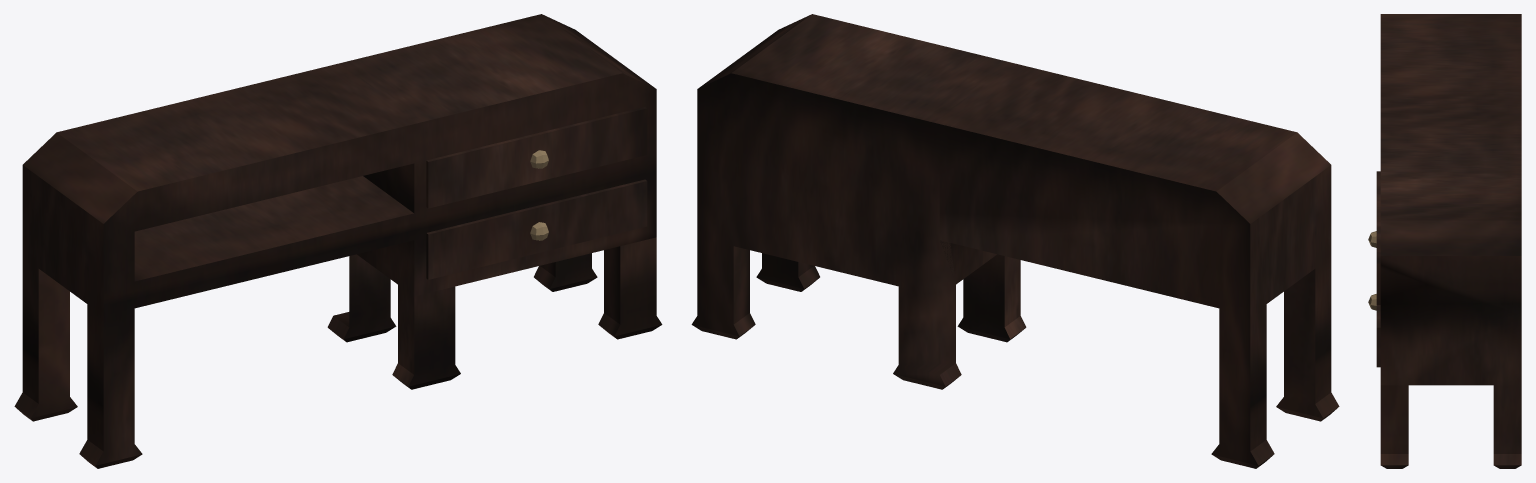
File: Dark_Desk.fbx
The picture shows the model from 3 angles, left to right: view 1: azimuth 30°, elevation 25°; view 2: azimuth 150°, elevation 25°; view 3: azimuth 270°, elevation 25°; orthographic projection. The views are drawn at different scales.
Parts seen in each view (by area): view 1: Desk; view 2: Desk; view 3: Desk.
Boxes of the visible parts, left/top/right/bottom form: Desk: left=14, top=14, right=662, bottom=468; Desk: left=691, top=14, right=1339, bottom=468; Desk: left=1368, top=14, right=1521, bottom=468.
Bounding box in the file's own units: 240 × 110 × 64.63.
Materials: 2 (1 with a texture image).
